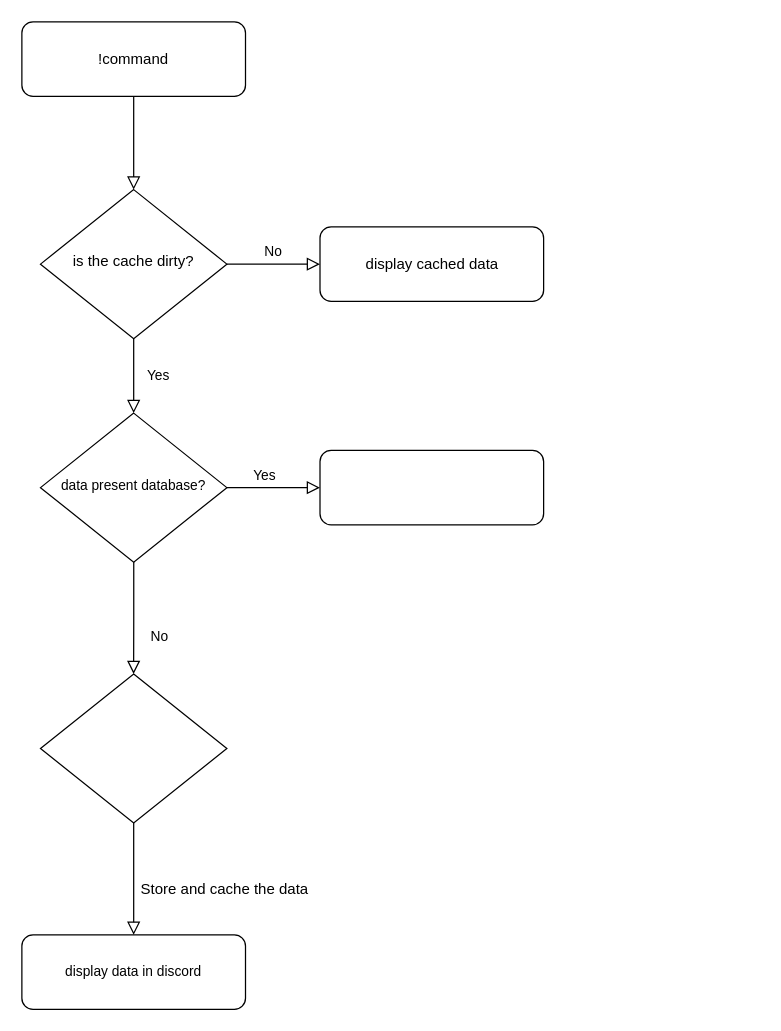
This 781x1031 diagram has some shape labels left out. The centre of each missing label's shape, as x and y in pixels:
display stored data: the point at 431,487
perform api call: the point at 133,748
